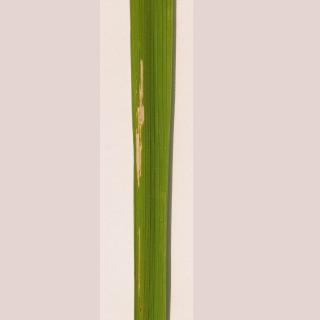Hawar-Daun: (126, 67, 155, 186), (126, 223, 152, 303)
